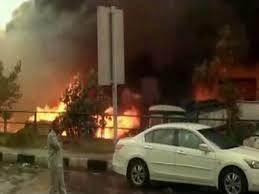fire: (29, 72, 82, 121), (94, 103, 140, 140)
